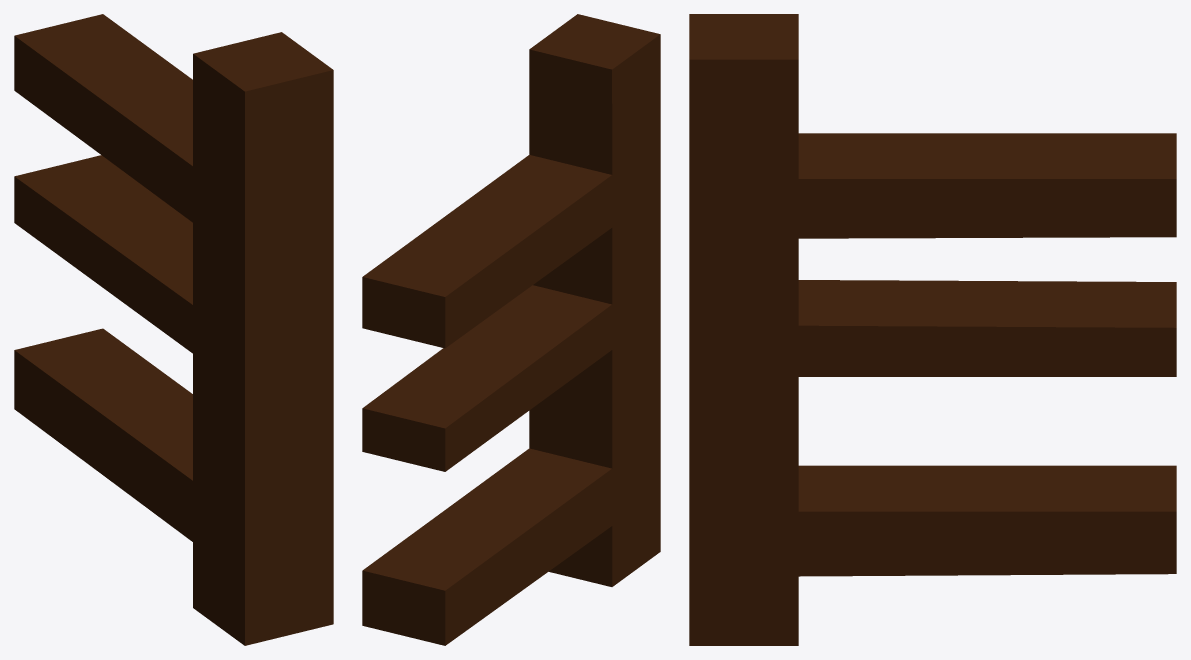
Rendered from Fence_Loop.fbx.
3 views of the same model, side by side, from view 1: azimuth 30°, elevation 25°; view 2: azimuth 150°, elevation 25°; view 3: azimuth 270°, elevation 25° (orthographic). The views are drawn at different scales.
Visible parts, largest first — view 1: Fence; view 2: Fence; view 3: Fence.
Part boxes in pixels (x1,y1,x2,y2): Fence: (14, 14, 333, 645); Fence: (362, 14, 660, 645); Fence: (689, 14, 1176, 645).
Size of the model in its own units: 25.1 by 150 by 113.
